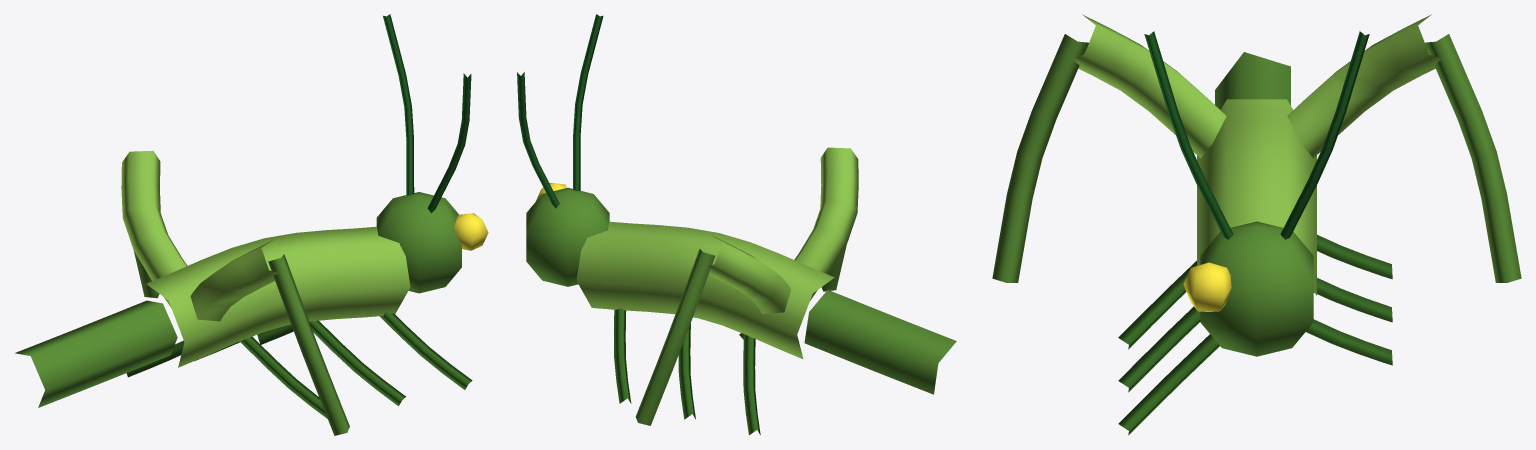
The model's file is belalang.glb.
3 views of the same model, side by side, from view 1: azimuth 30°, elevation 25°; view 2: azimuth 150°, elevation 25°; view 3: azimuth 270°, elevation 25° (orthographic). The views are drawn at different scales.
Size of the model in its own units: 1.13 by 0.7556 by 0.883.
